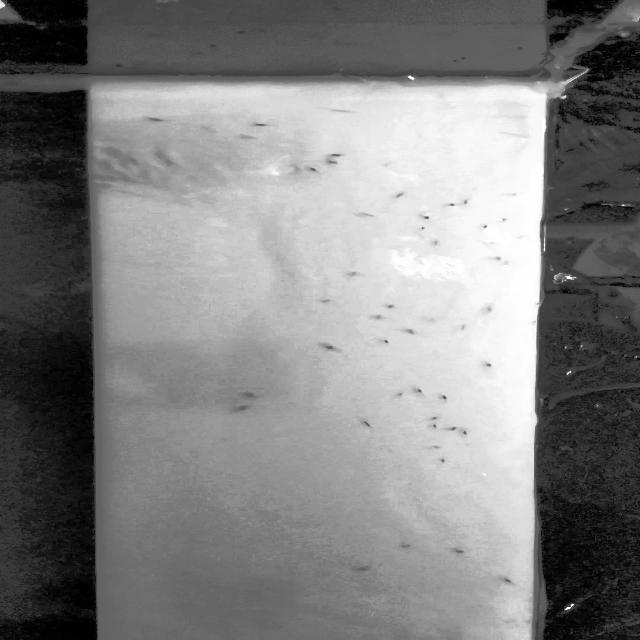shrimp: (387, 542, 417, 554), (379, 301, 408, 313), (382, 189, 411, 201), (469, 302, 496, 314), (314, 342, 346, 352), (340, 269, 364, 280), (481, 358, 498, 372), (450, 322, 469, 334), (356, 420, 380, 429), (390, 388, 410, 398), (412, 386, 428, 398), (443, 423, 462, 433), (457, 427, 474, 438), (446, 546, 469, 554), (427, 440, 442, 452), (241, 389, 261, 398), (427, 316, 448, 324), (436, 393, 450, 404), (315, 298, 337, 305), (402, 326, 417, 336), (502, 576, 517, 585), (438, 455, 452, 464), (349, 567, 369, 572), (426, 422, 440, 429), (430, 413, 444, 420), (420, 213, 435, 219), (235, 405, 248, 411), (374, 314, 384, 321), (382, 338, 391, 344)
